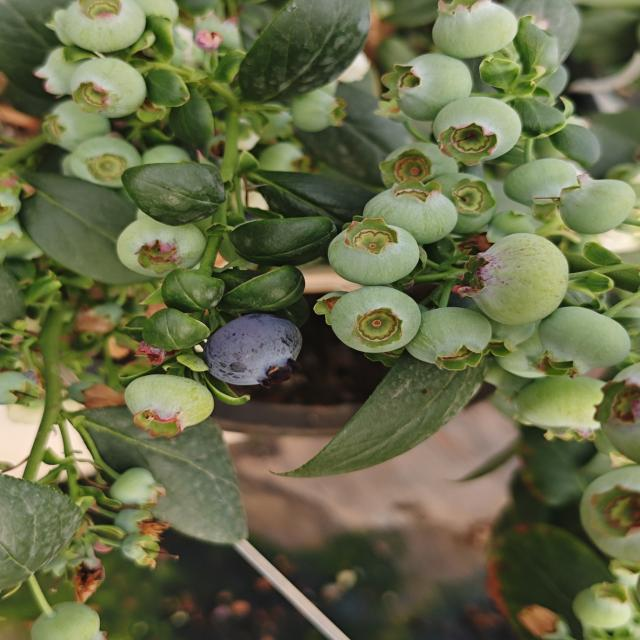ripe: (198, 316, 312, 388)
